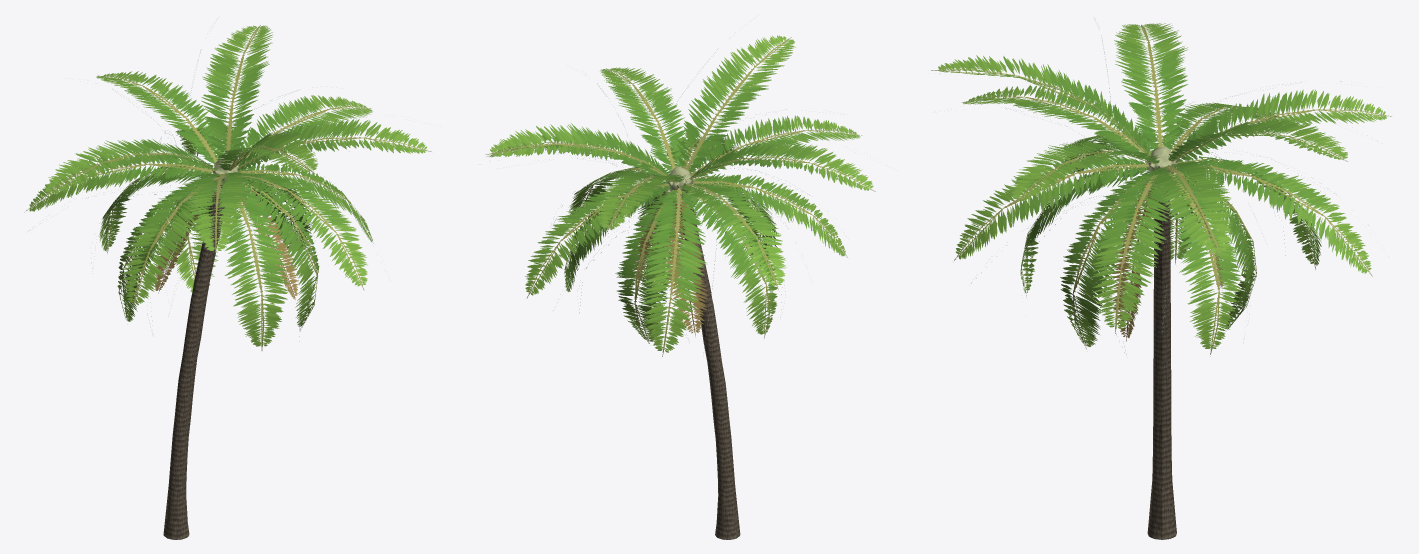
Rendered from marina-palm.glb.
The picture shows the model from 3 angles, left to right: view 1: azimuth 30°, elevation 25°; view 2: azimuth 150°, elevation 25°; view 3: azimuth 270°, elevation 25°; orthographic projection. The views are drawn at different scales.
Visible parts, largest first — view 1: Near, Far; view 2: Near, Far; view 3: Near, Far.
Part boxes in pixels (x1,y1,x2,y2): Near: (24, 25, 431, 539); Far: (27, 25, 430, 539); Near: (485, 32, 887, 539); Far: (486, 18, 874, 539); Near: (932, 19, 1390, 539); Far: (931, 23, 1391, 539).
Size of the model in its own units: 6.34 by 6.95 by 6.01.
Materials: 1 (1 with a texture image).
